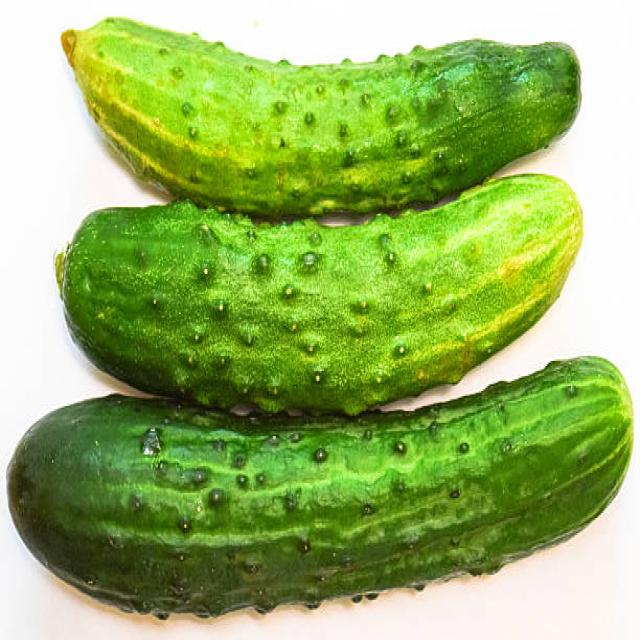cucumber: (8, 356, 632, 616), (63, 173, 583, 422), (69, 17, 582, 213)
